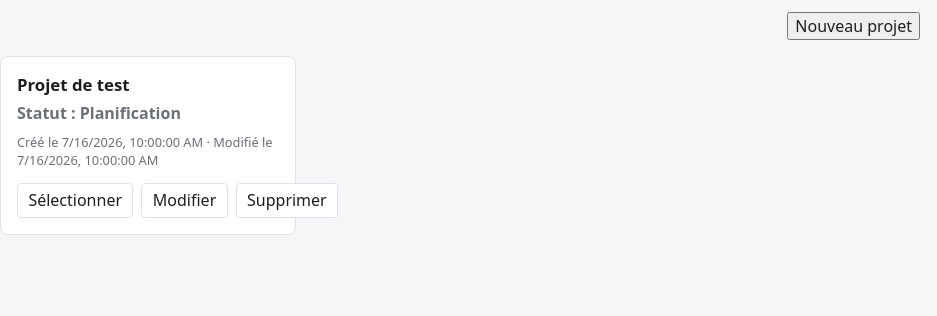
Test: ProjectsPage — suppression › affiche une erreur si la suppression échoue
The image size is (937, 316).
expect the heading "Projet de test" is shown: met, box [17,73,130,96]
Click the button "Supprimer". click: (287, 200)
box: [236,183,338,218]
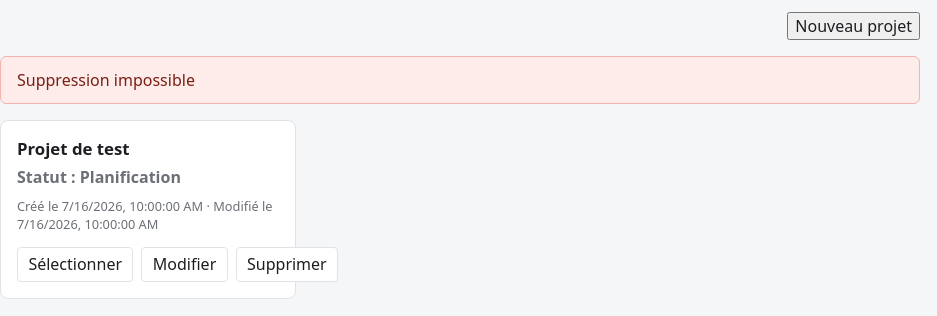
expect the heading "Projet de test" is shown: met, box [17,137,130,160]
expect the text "Suppression impossible" is shown: met, box [0,56,920,104]
